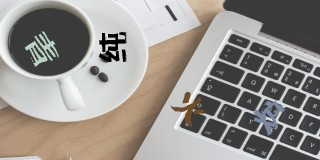火: (170, 91, 206, 128)
炉: (255, 101, 286, 134)
纯: (98, 30, 130, 62)
青: (23, 30, 59, 69)
